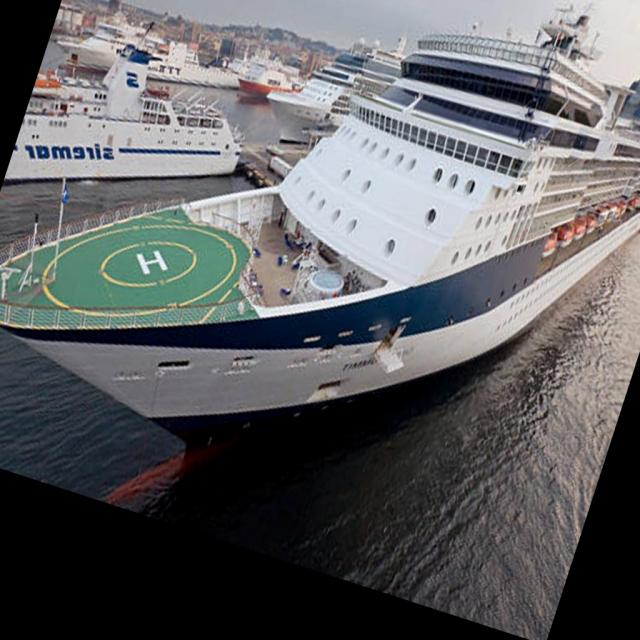helipad: (93, 237, 201, 289)
